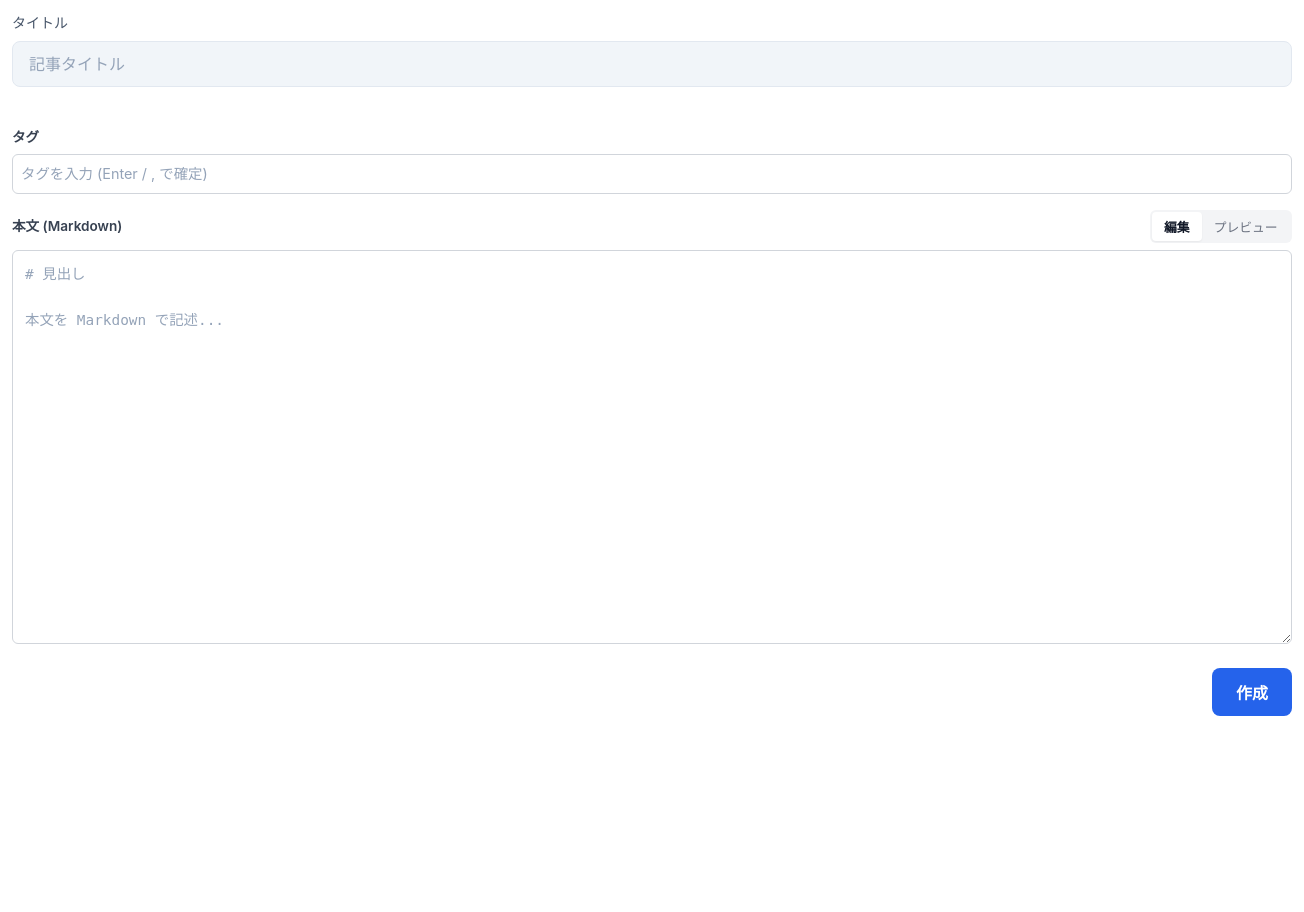
Test: ArticleForm › 空送信でバリデーション
Click the button "作成": (1252, 692) [1212,668,1292,716]
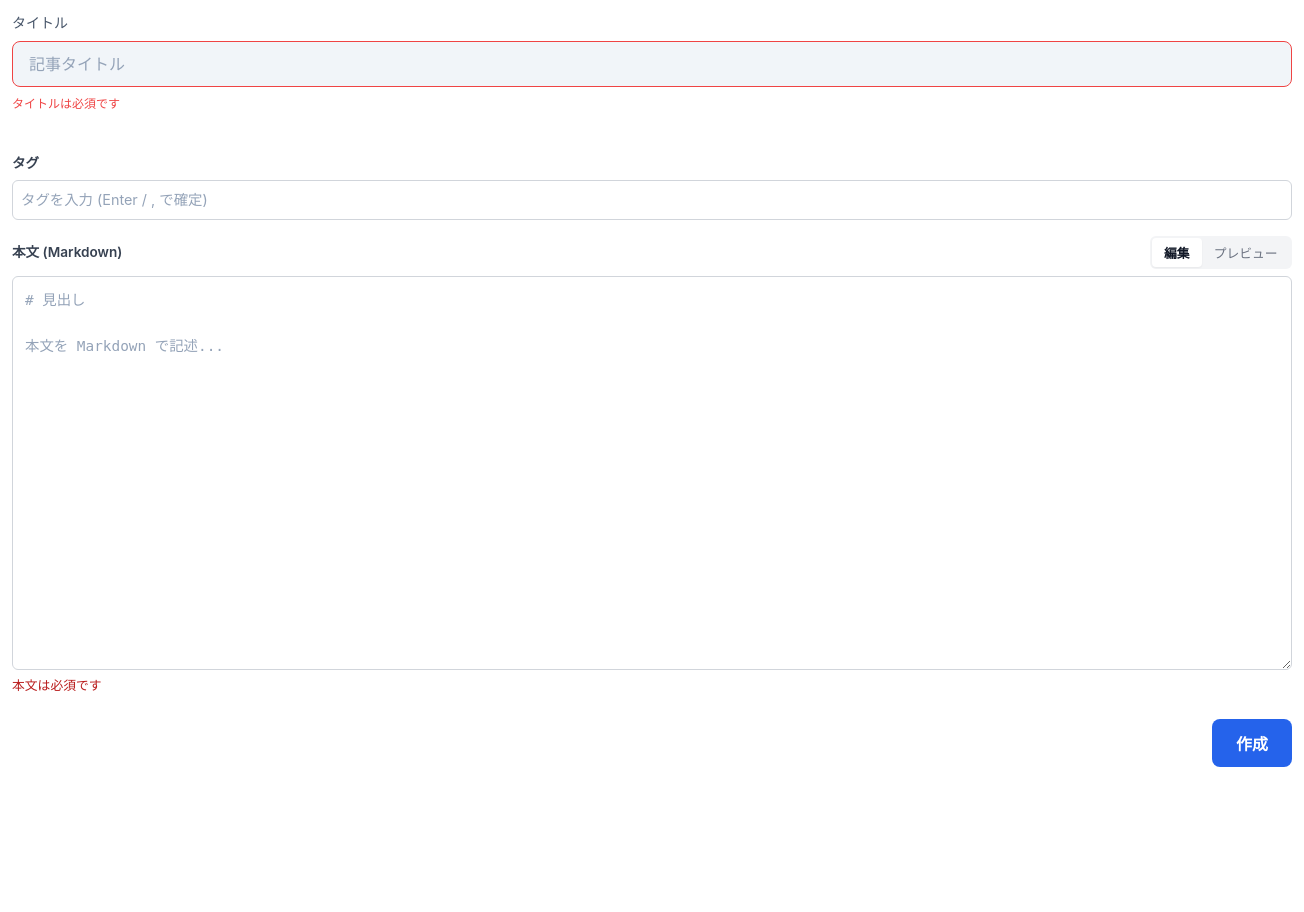
Result: the text "タイトルは必須です" is shown at [12,96,120,111]
Result: the text "本文は必須です" is shown at [12,678,102,693]
